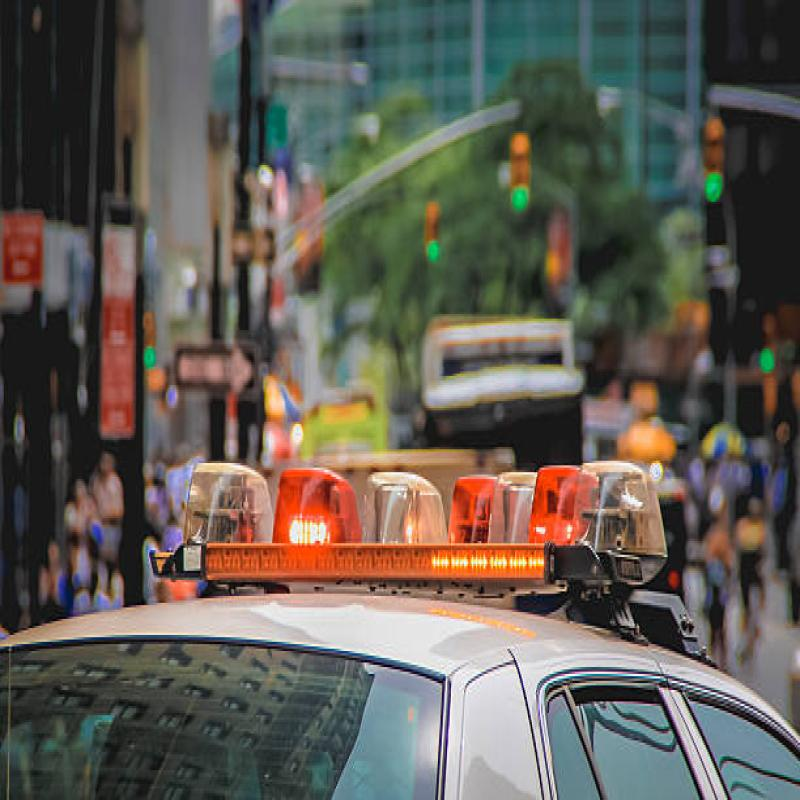AmbulanceSiren: (165, 392, 676, 658)
